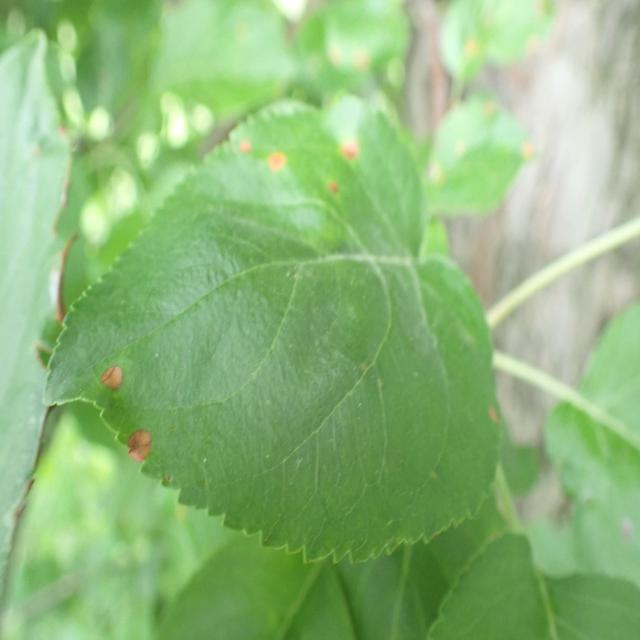Black Rot: (116, 428, 171, 491), (82, 356, 135, 392), (264, 132, 292, 186), (324, 132, 368, 160), (227, 122, 251, 170), (318, 172, 344, 208)
